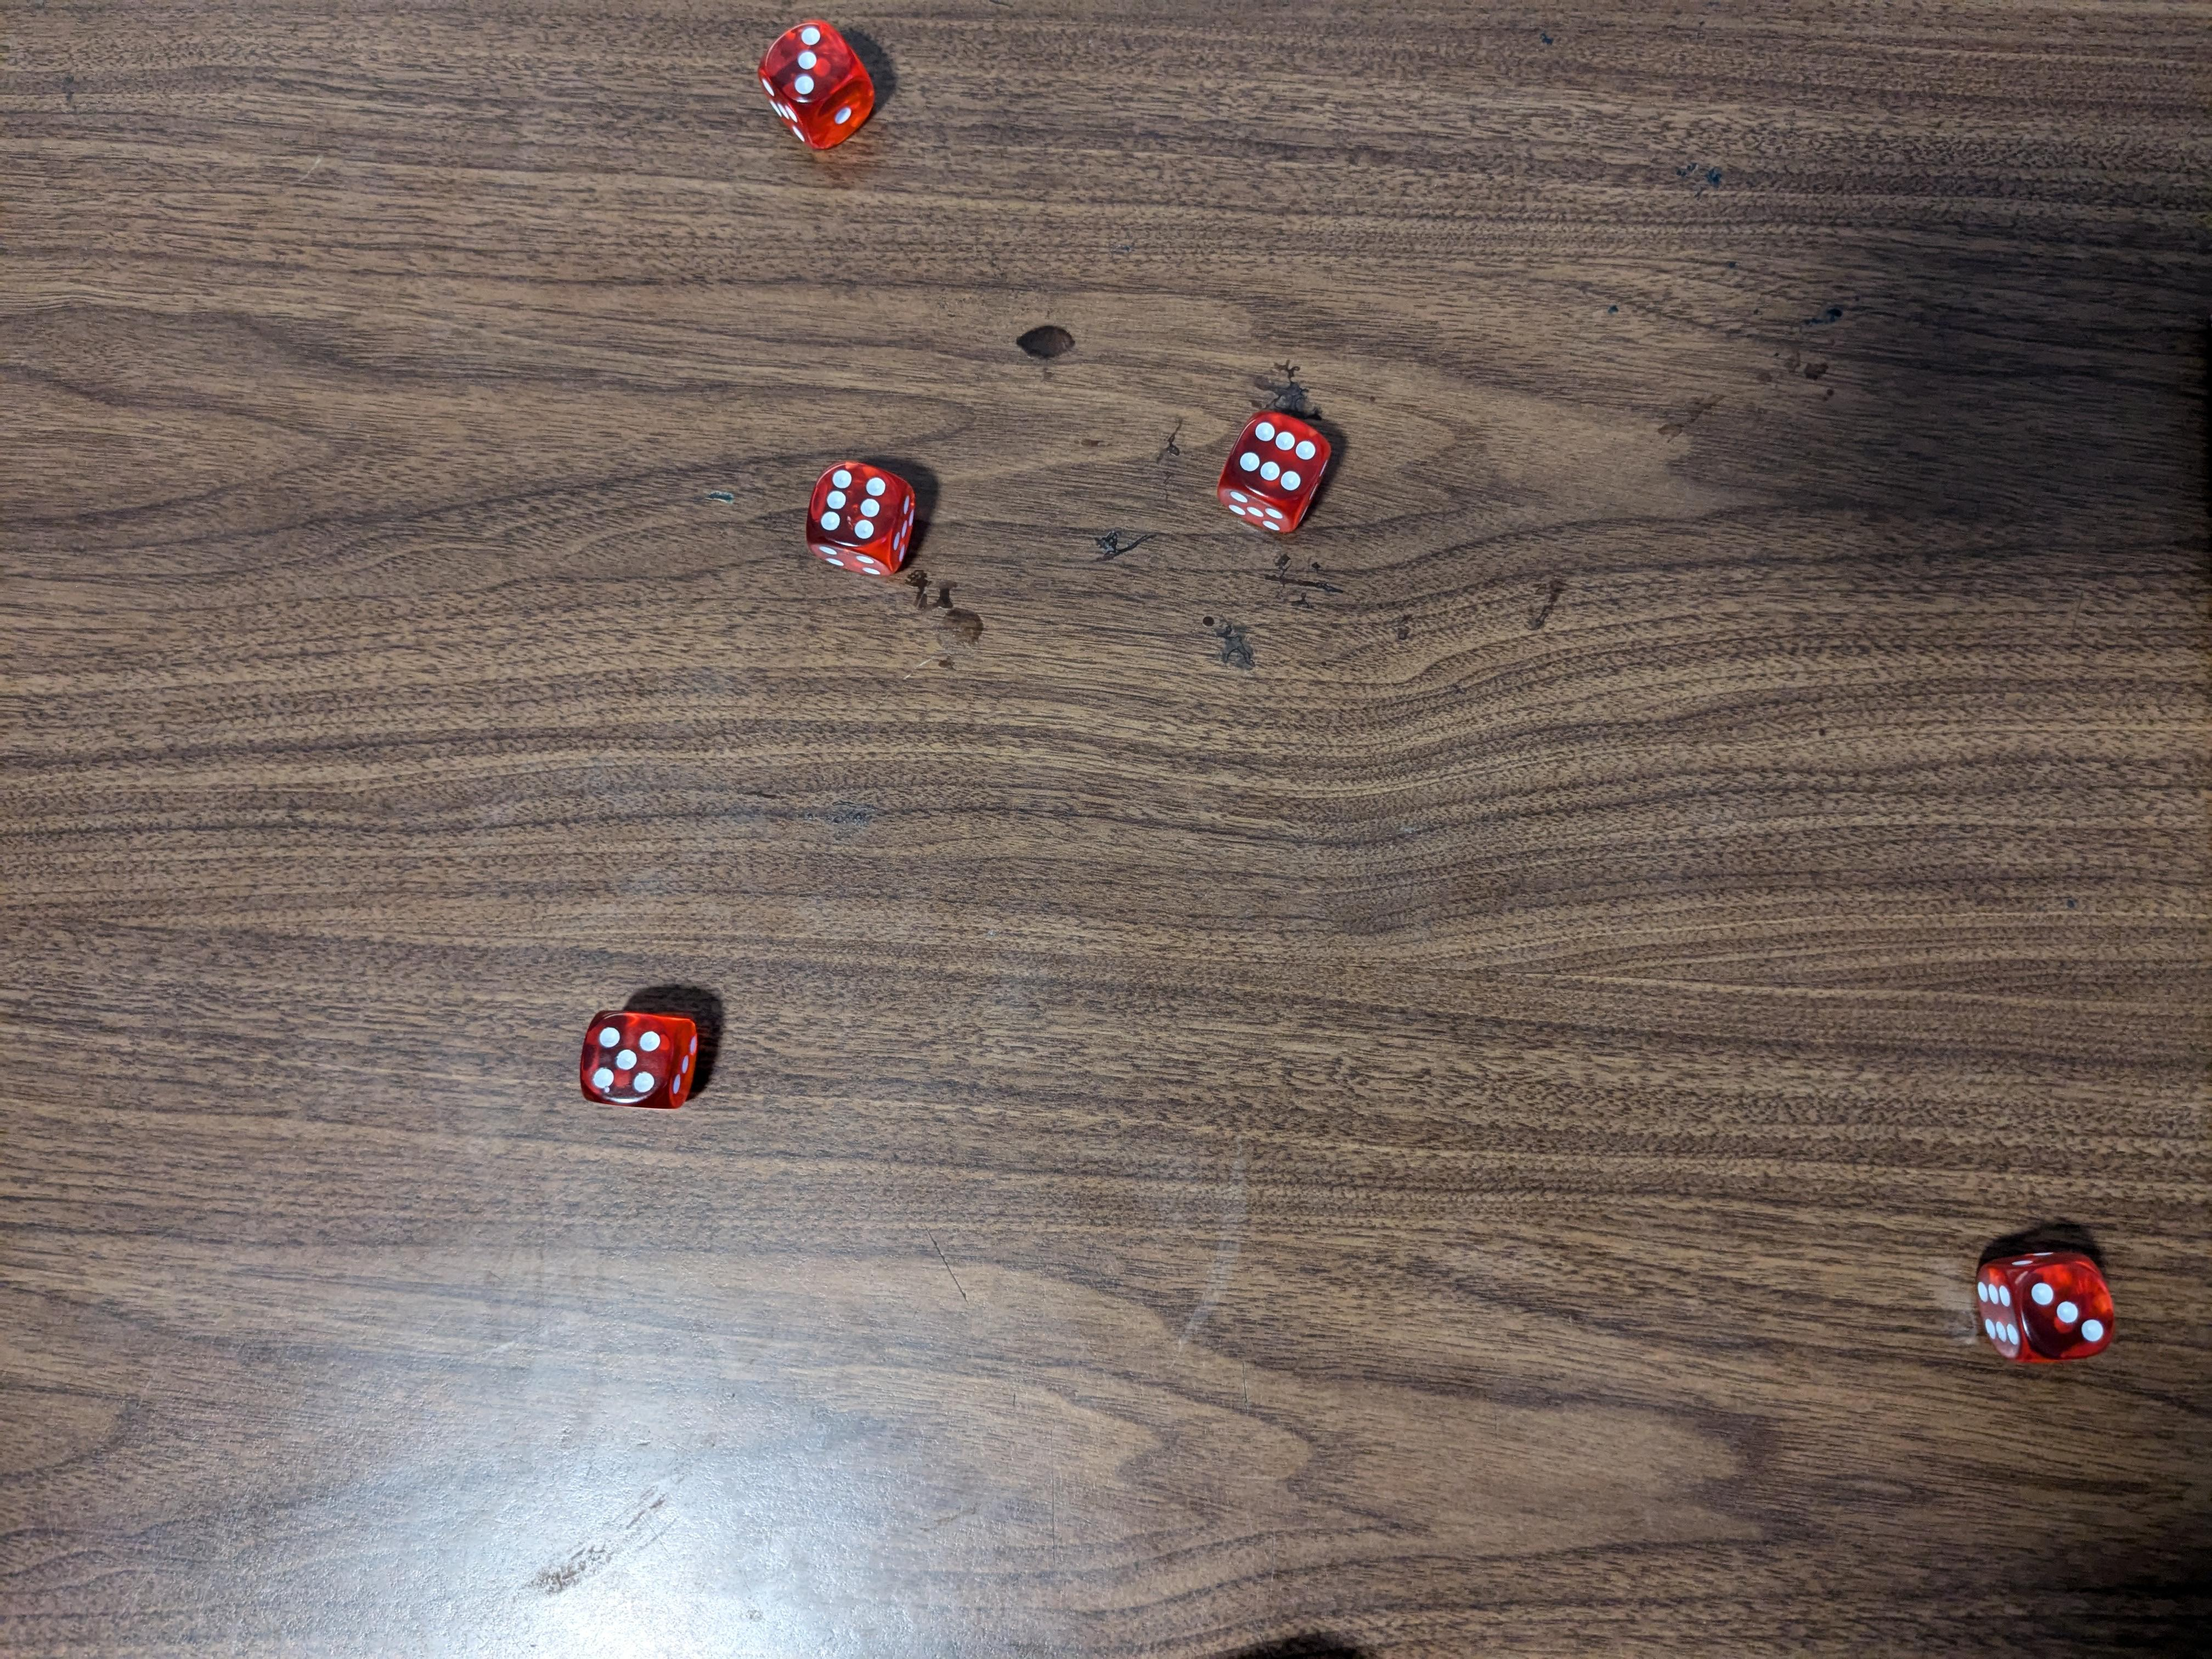five: (577, 1004, 702, 1117)
six: (798, 457, 923, 580), (1216, 408, 1334, 537)
three: (1972, 1248, 2116, 1366), (759, 19, 874, 148)
